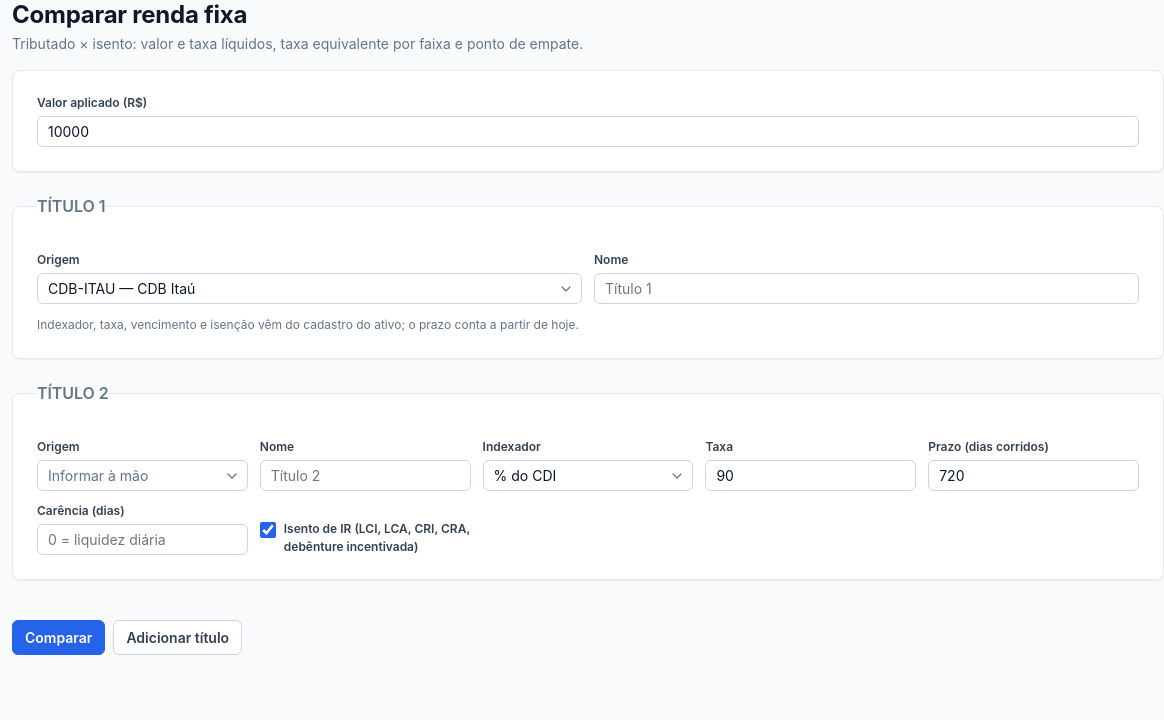
fixed income comparator › preselects a portfolio asset, adds and removes offers and shows API errors
Click the 1st dropdown labelled "Origem" at point(310, 288), box [37,273,582,304]
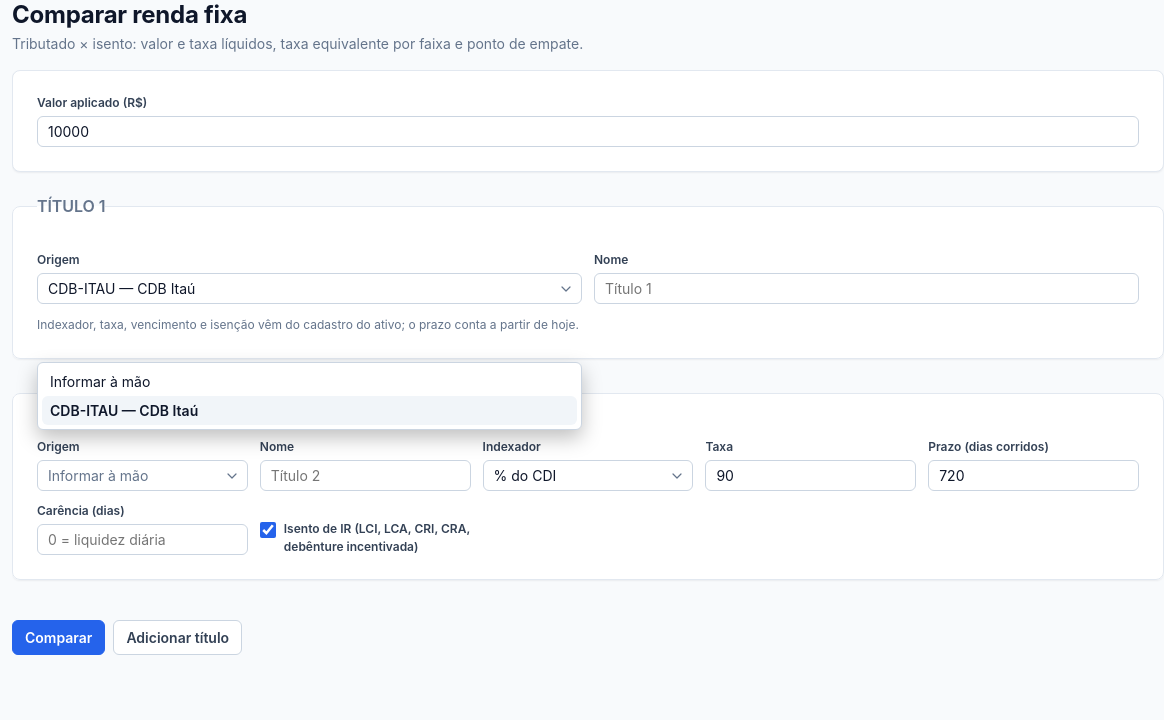
Press Escape in the 1st dropdown labelled "Origem", box [37,273,582,304]
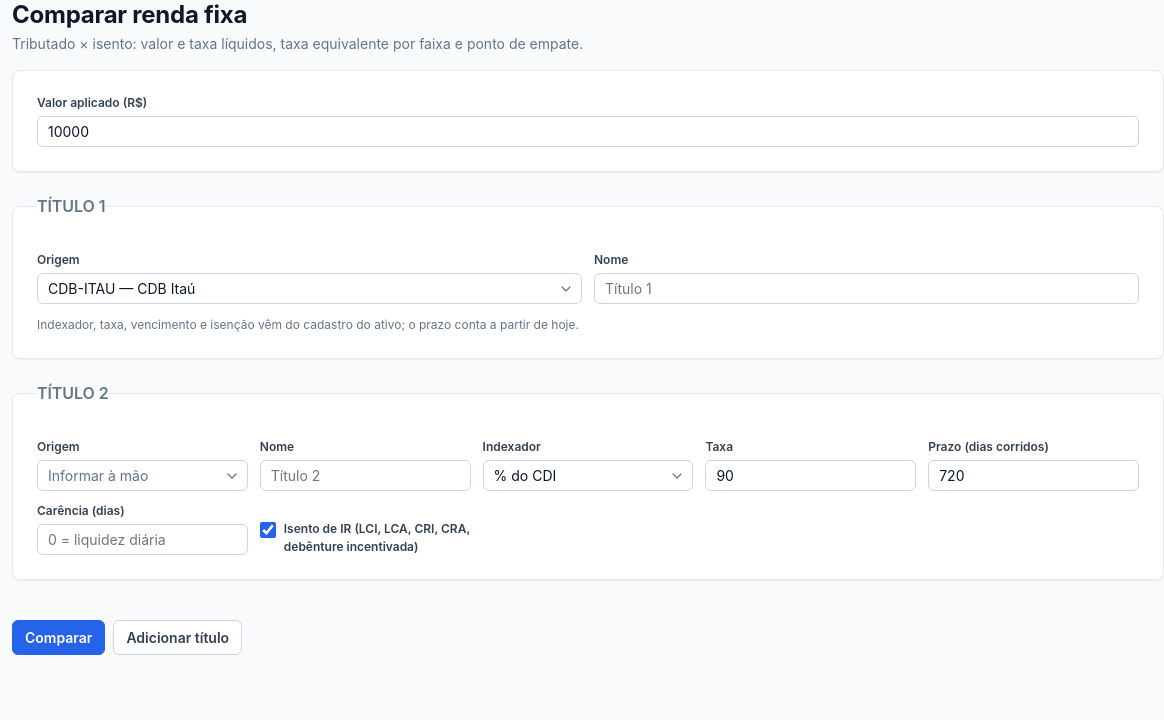
Expected: the text "vêm do cadastro do ativo" is shown, [37,317,579,332]
Click the button "Adicionar título" at point(178, 638), box [113,620,242,655]
(page scrolled)
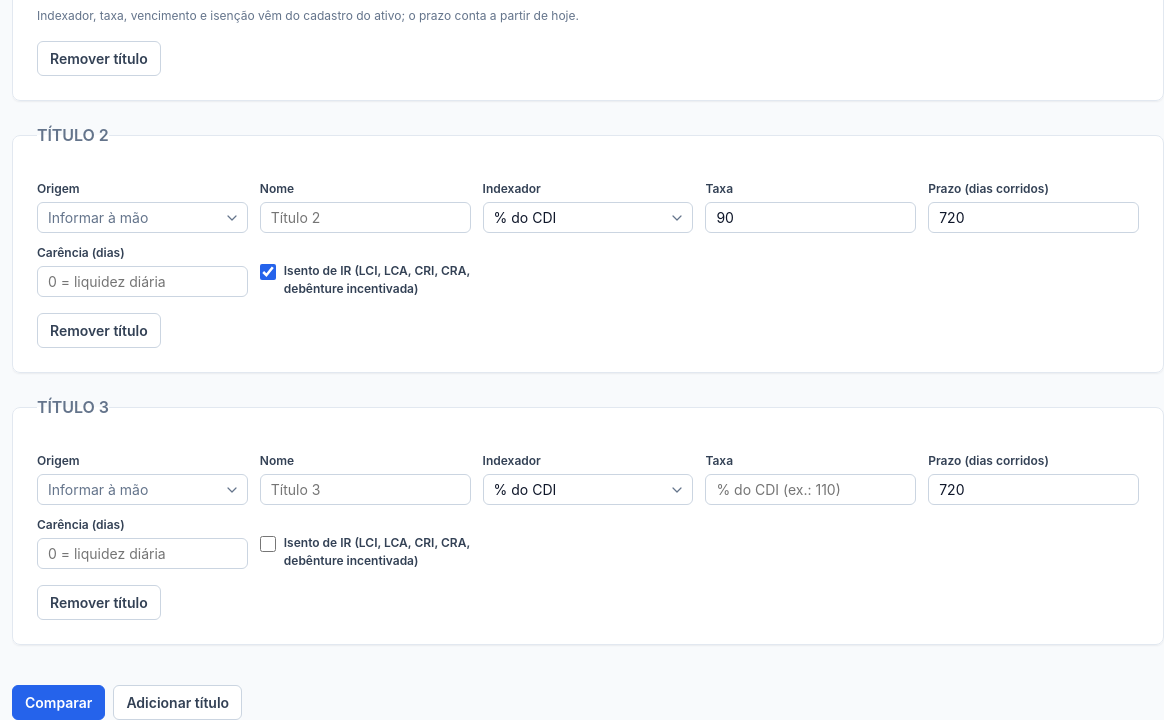
Result: the number of fields labelled "Origem" is 3
Click the 3rd button "Remover título" at point(99, 602), box [37,585,161,620]
(page scrolled)
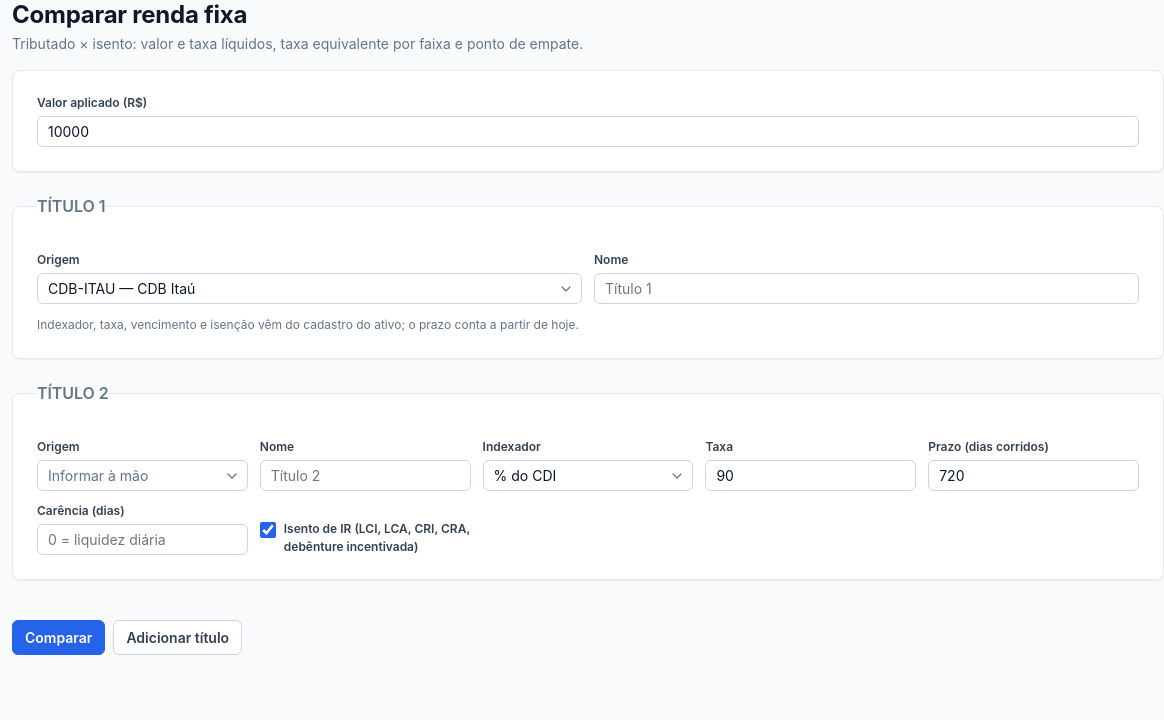
Result: the number of dropdowns labelled "Origem" is 2 at [37,273,582,304]; [37,460,248,491]
Click the button "Comparar" at point(59, 638), box [12,620,105,655]
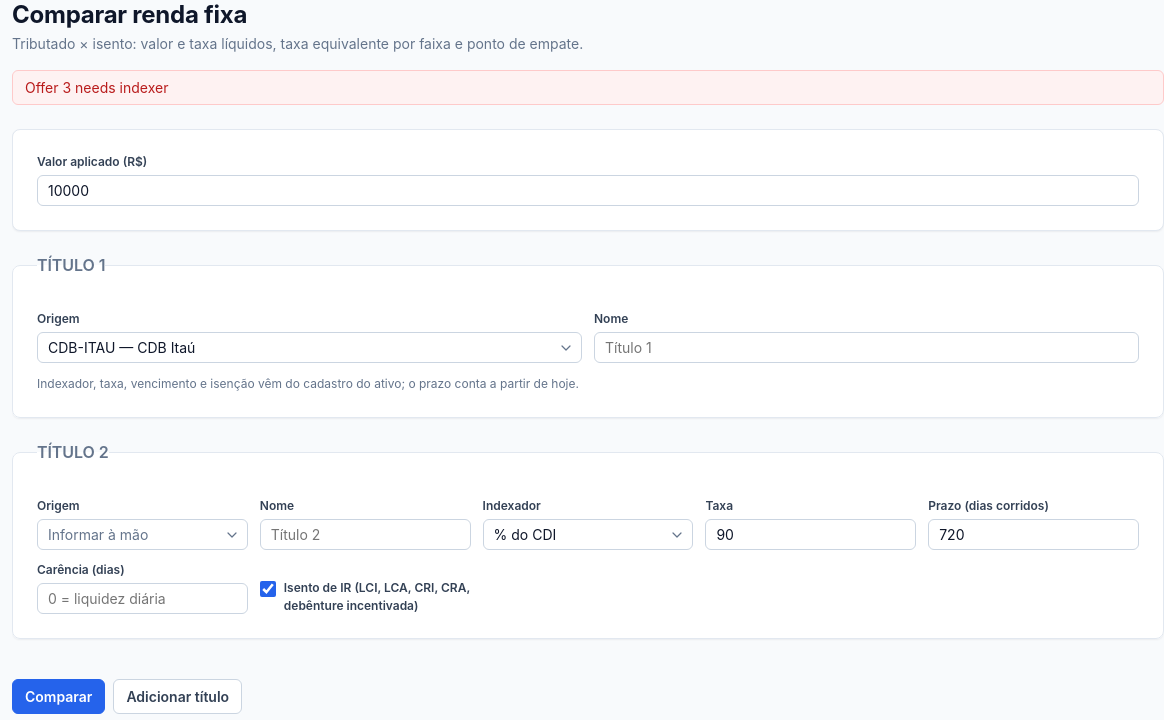
Result: the message "Offer 3 needs indexer" is shown at [12,70,1163,105]
